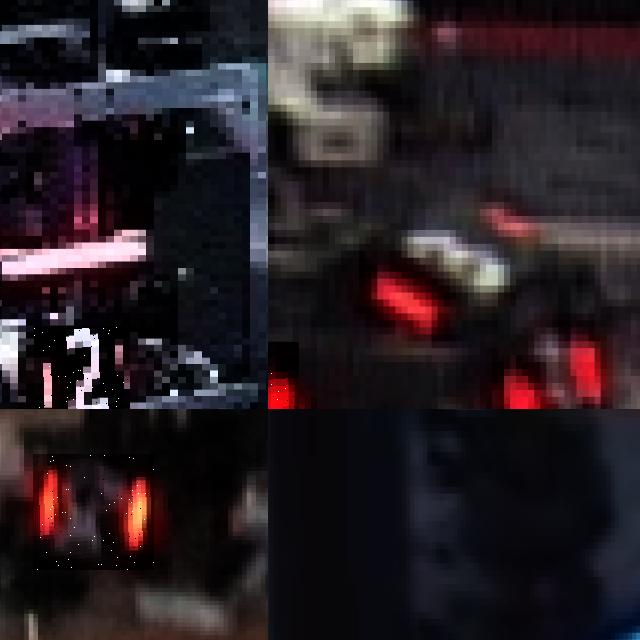R2: (34, 325, 130, 409)
R3: (498, 327, 606, 409)
Rs: (33, 454, 154, 570)
